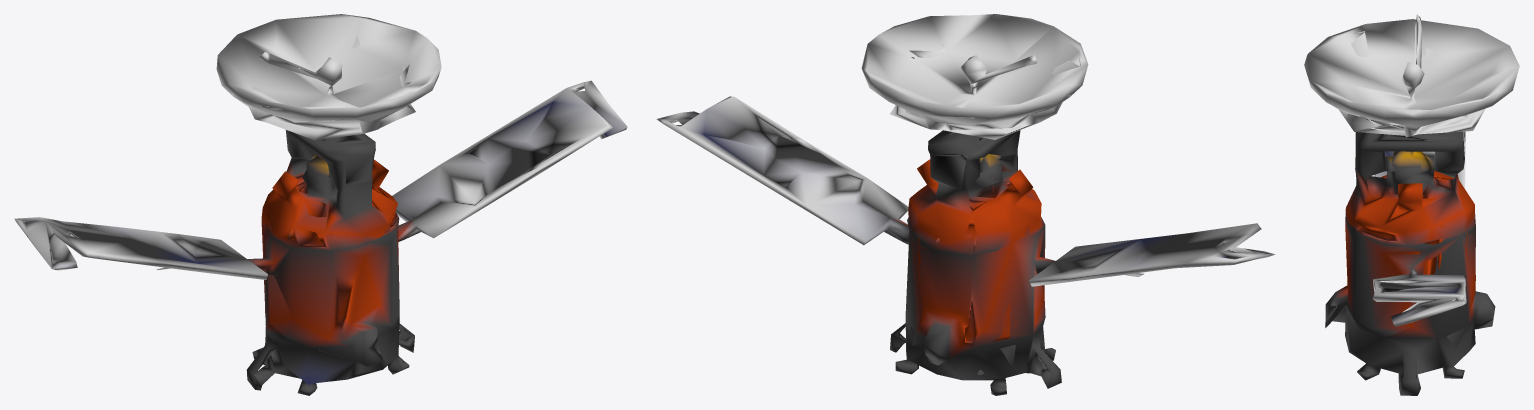
The model's file is gen3d-space-probe-lod1.glb.
The picture shows the model from 3 angles, left to right: view 1: azimuth 30°, elevation 25°; view 2: azimuth 150°, elevation 25°; view 3: azimuth 270°, elevation 25°; orthographic projection. The views are drawn at different scales.
Visible parts, largest first — view 1: part_0; view 2: part_0; view 3: part_0.
Boxes of the visible parts, x1,y1,x2,y2 form: part_0: [14, 14, 627, 395]; part_0: [656, 14, 1275, 395]; part_0: [1304, 14, 1519, 395].
Bounding box in the file's own units: 1.83 × 0.9994 × 0.6179.
